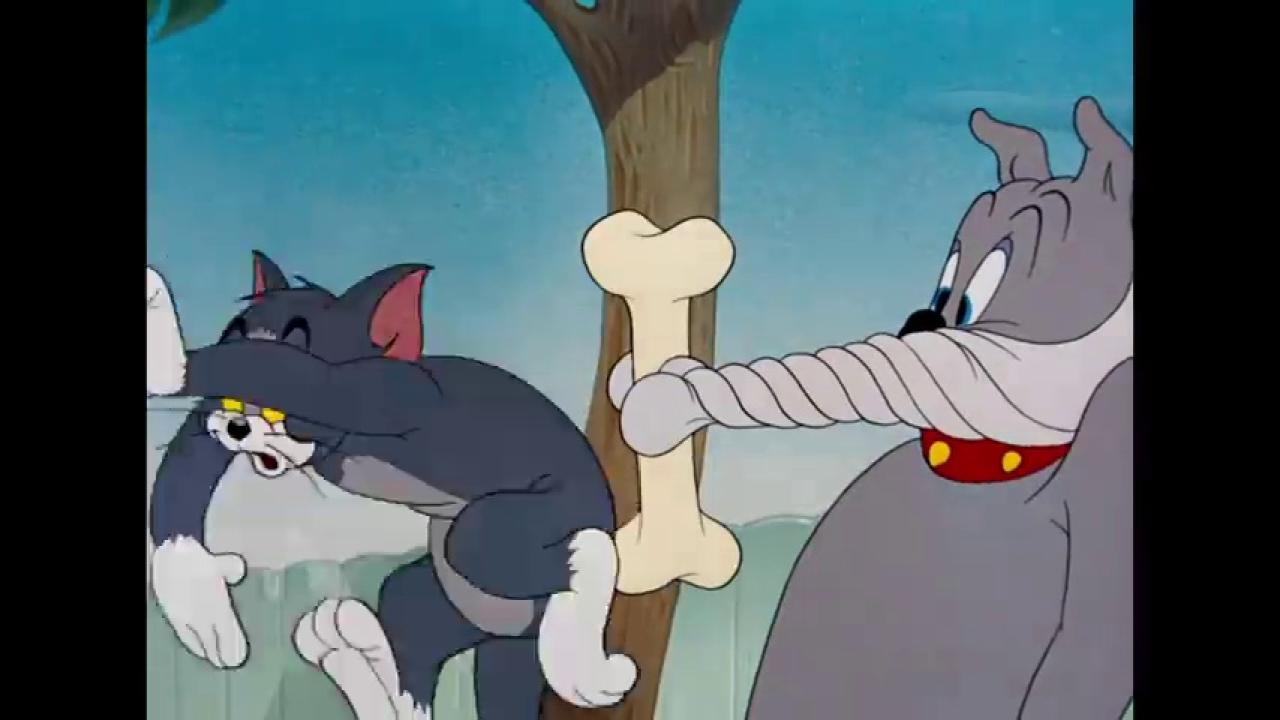Tom: (147, 244, 644, 720)
